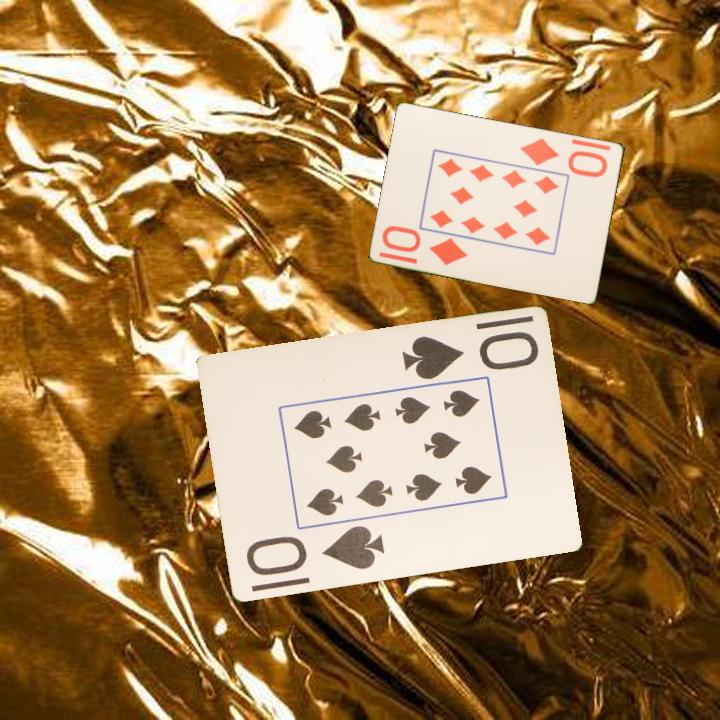10d: (517, 134, 611, 180), (378, 223, 471, 269)
10s: (242, 522, 388, 579), (398, 328, 541, 383)
